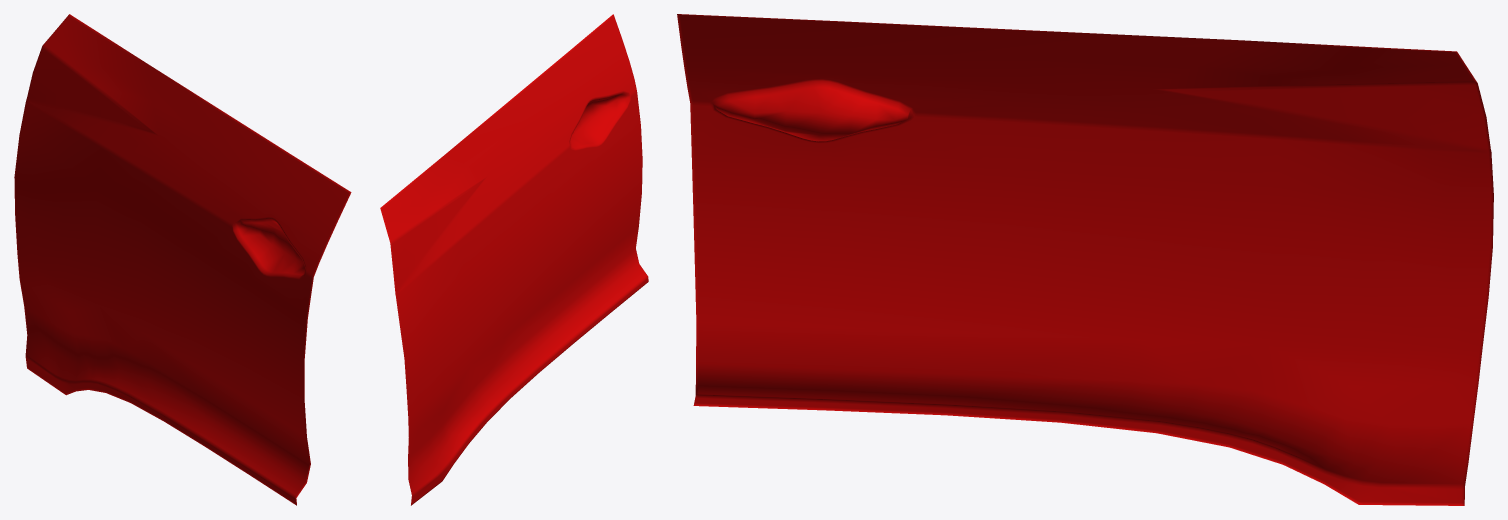
The model's file is front_door.fbx.
3 views of the same model, side by side, from view 1: azimuth 30°, elevation 25°; view 2: azimuth 150°, elevation 25°; view 3: azimuth 270°, elevation 25° (orthographic). The views are drawn at different scales.
Visible parts, largest first — view 1: d3.004; view 2: d3.004; view 3: d3.004.
Boxes of the visible parts, x1=… form: d3.004: x1=14, y1=14, x2=351, y2=505; d3.004: x1=380, y1=14, x2=648, y2=505; d3.004: x1=677, y1=14, x2=1493, y2=505.
Bounding box in the file's own units: 13.91 × 99.97 × 143.
